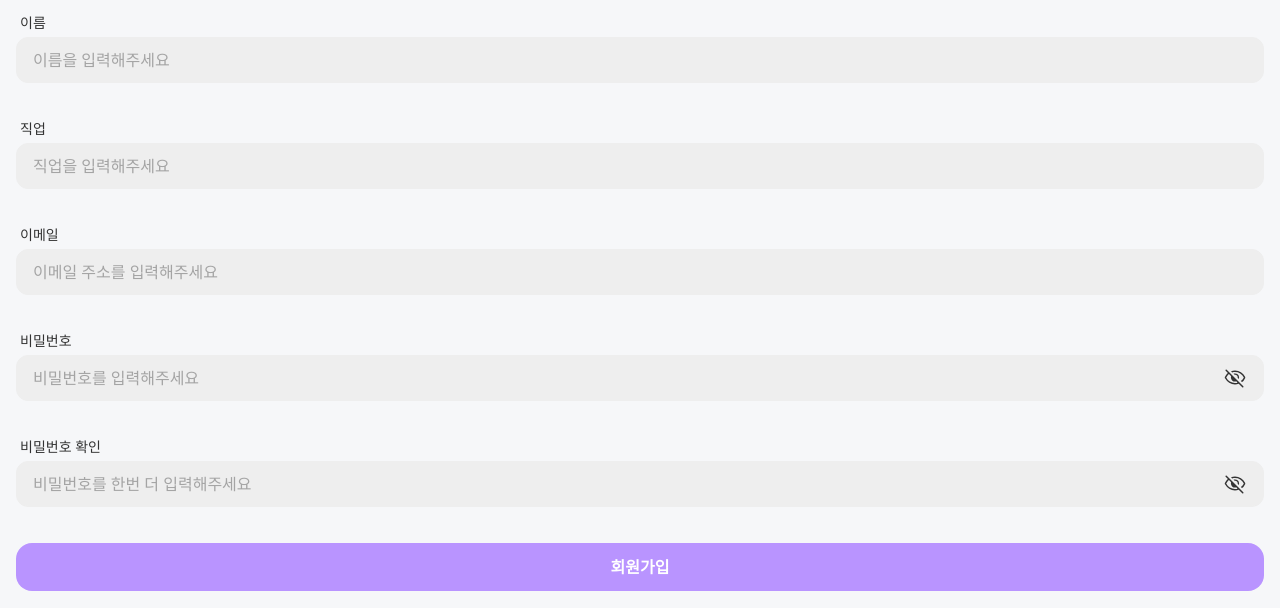
Test case: 🧩 SignupForm — 폼 유효성 검증 › 비밀번호에 동일 문자가 3번 이상 연속되면 에러 메시지가 표시된다
// 동일 문자가 3번 이상 포함된 비밀번호 입력
In the field labelled "이름": (640,60) [33,48,1247,72], type "홍길동"
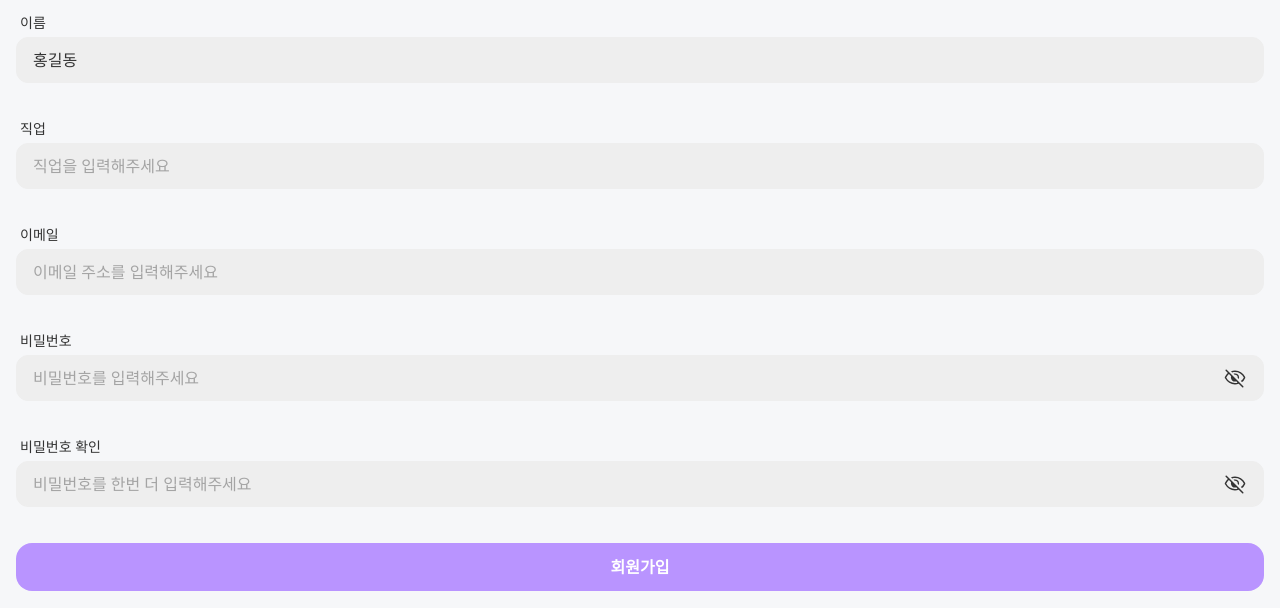
In the field labelled "직업": (640,166) [33,154,1247,178], type "테스트회사"
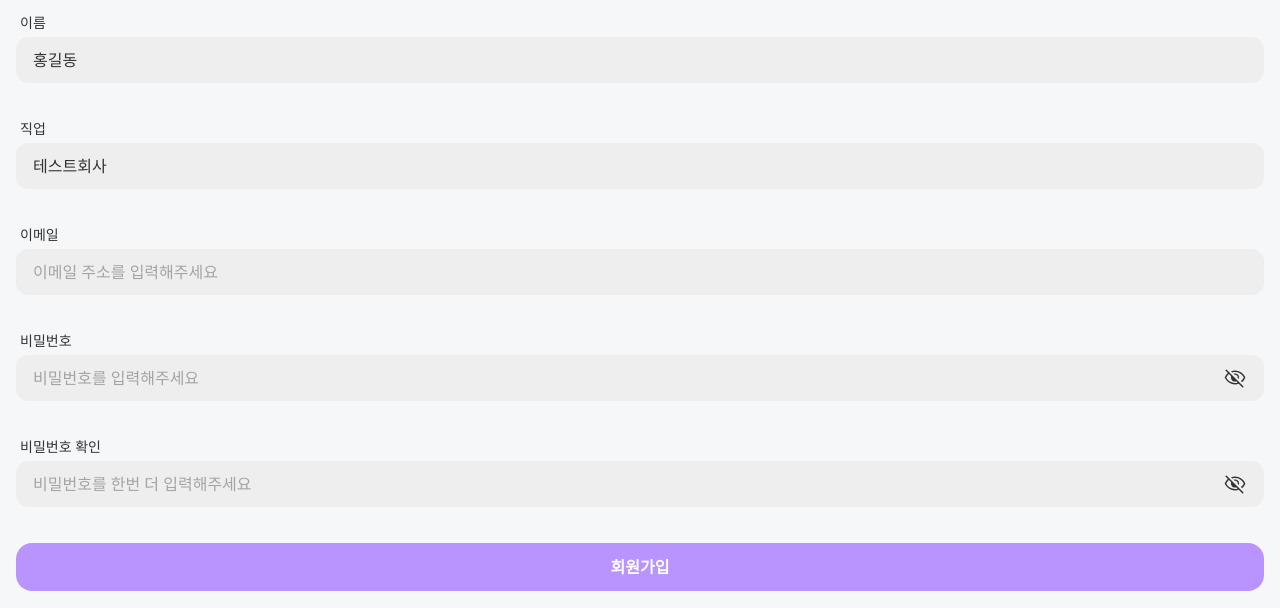
In the field labelled "이메일": (640,272) [33,260,1247,284], type "repeat@example.com"
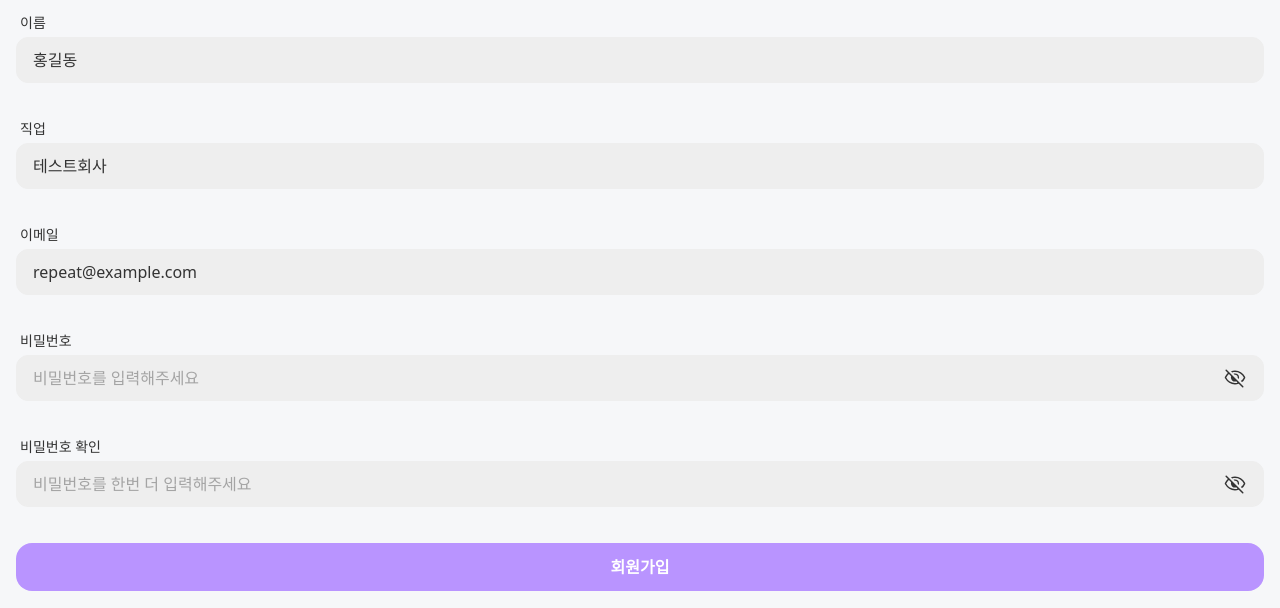
In the password field labelled "비밀번호": (628,378) [33,366,1223,390], type "aaabbb1234"
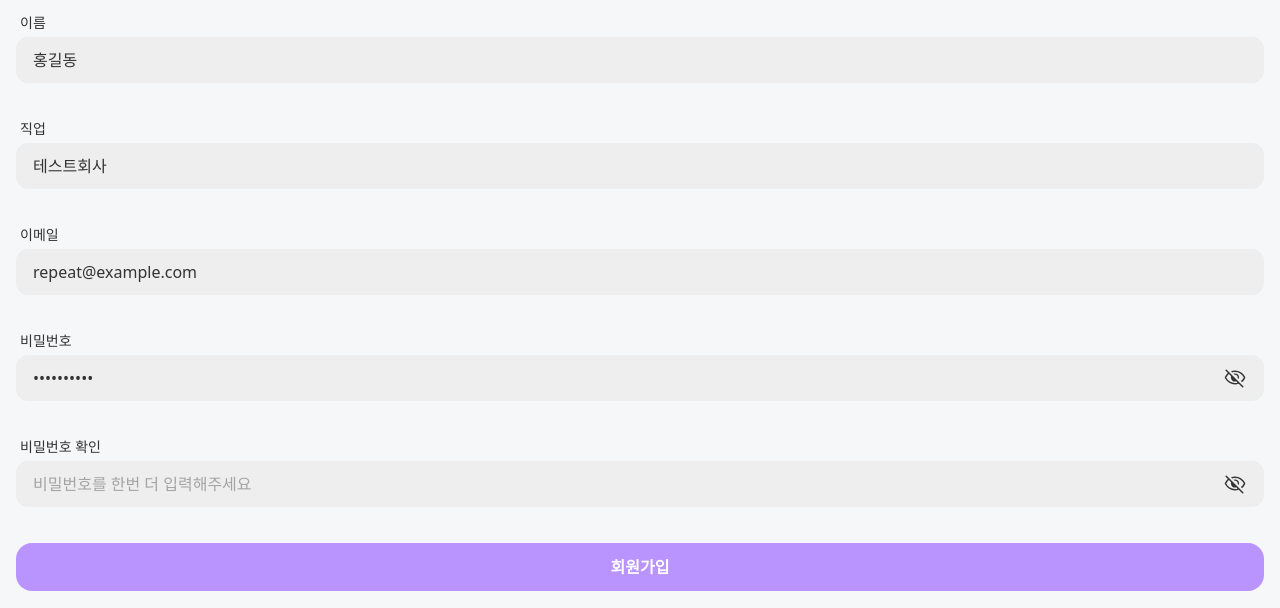
In the password field labelled "비밀번호 확인": (628,484) [33,472,1223,496], type "aaabbb1234"
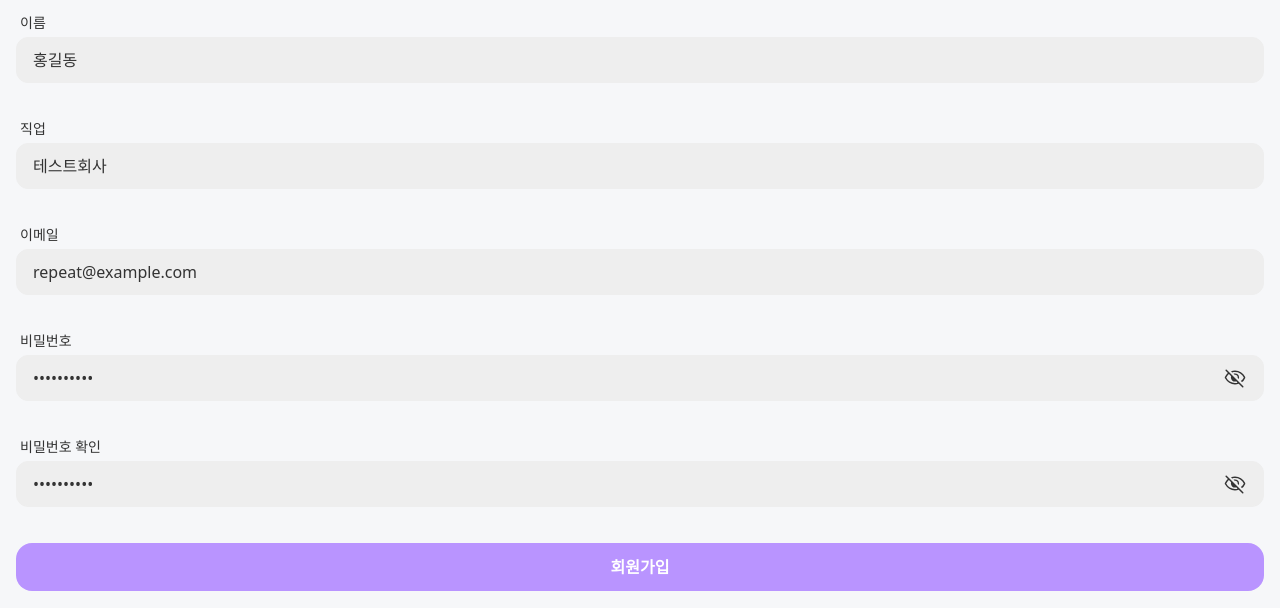
Click the button "회원가입": (640,567) [16,543,1264,591]
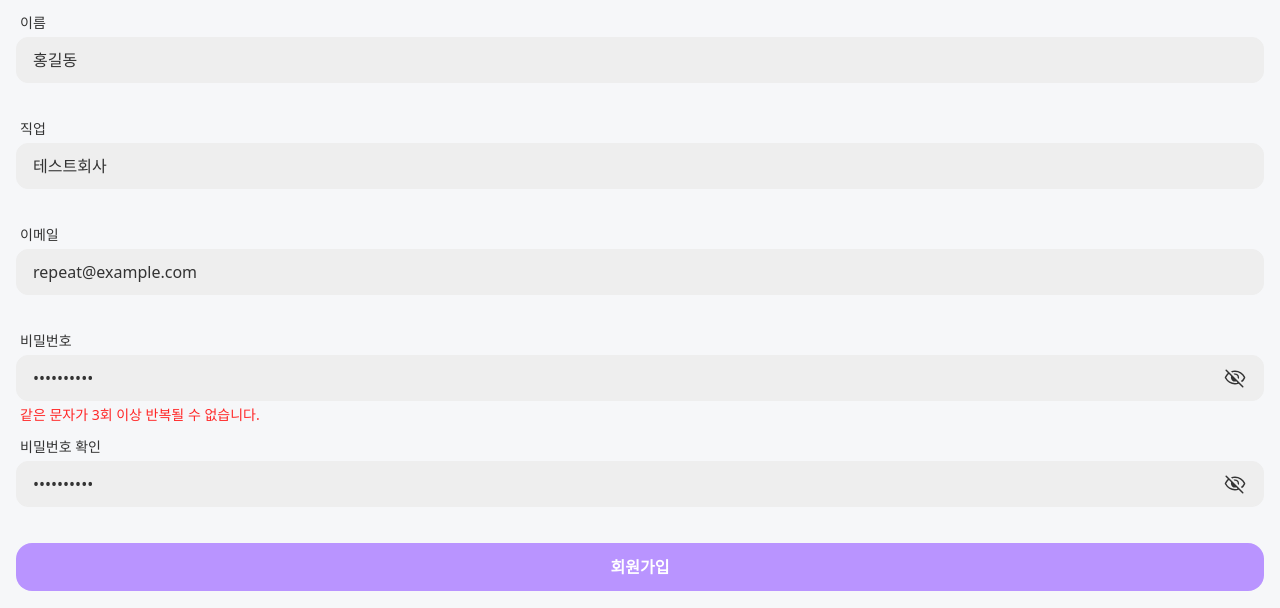
Expected: the text "같은 문자가 3회 이상 반복될 수 없습니다." is shown, [20,405,260,424]
